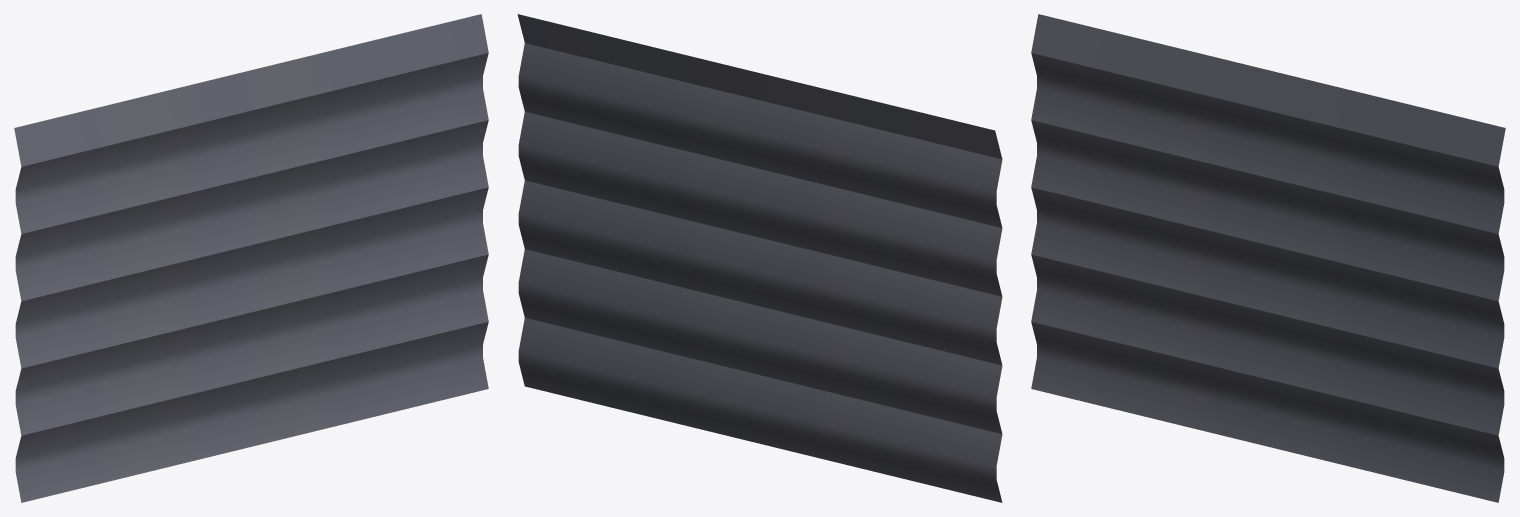
The model's file is Taules.fbx.
3 renders of one model, left to right at view 1: azimuth 30°, elevation 25°; view 2: azimuth 150°, elevation 25°; view 3: azimuth 330°, elevation 25°, orthographic. The views are drawn at different scales.
Parts seen in each view (by area): view 1: Taules; view 2: Taules; view 3: Taules.
Boxes of the visible parts, bbox=[...] form: Taules: bbox=[14, 14, 488, 502]; Taules: bbox=[517, 14, 1002, 502]; Taules: bbox=[1031, 14, 1505, 502].
Size of the model in its own units: 40.62 by 30.7 by 1.08.
